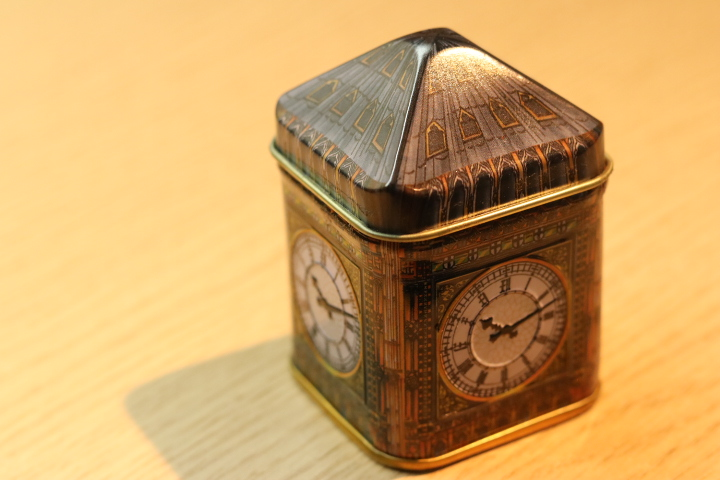Big Ben: (241, 13, 647, 477)
